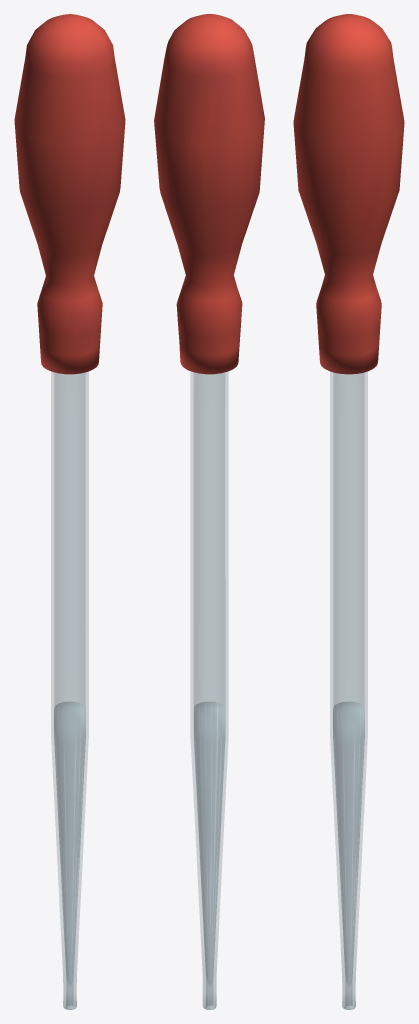
The model's file is dropper-pipette.glb.
3 views of the same model, side by side, from view 1: azimuth 90°, elevation 25°; view 2: azimuth 150°, elevation 25°; view 3: azimuth 270°, elevation 25° (orthographic).
Parts seen in each view (by area): view 1: dropper-pipette-teat, dropper-pipette-glass, dropper-pipette-inner; view 2: dropper-pipette-teat, dropper-pipette-glass, dropper-pipette-inner; view 3: dropper-pipette-teat, dropper-pipette-glass, dropper-pipette-inner.
Boxes of the visible parts, <box> form: dropper-pipette-teat: <box>14,14,125,374</box>; dropper-pipette-glass: <box>51,372,88,1009</box>; dropper-pipette-inner: <box>54,701,85,989</box>; dropper-pipette-teat: <box>154,14,264,374</box>; dropper-pipette-glass: <box>190,372,228,1009</box>; dropper-pipette-inner: <box>194,702,224,990</box>; dropper-pipette-teat: <box>293,14,404,374</box>; dropper-pipette-glass: <box>330,372,367,1009</box>; dropper-pipette-inner: <box>333,701,364,989</box>.
Size of what is drawn, in the model's own units: 2.09 by 20.58 by 2.09.
